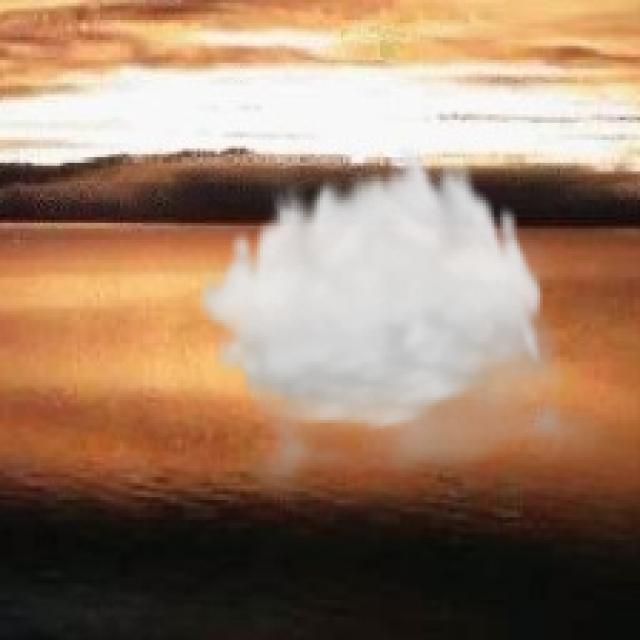smoke: (194, 140, 620, 500)
